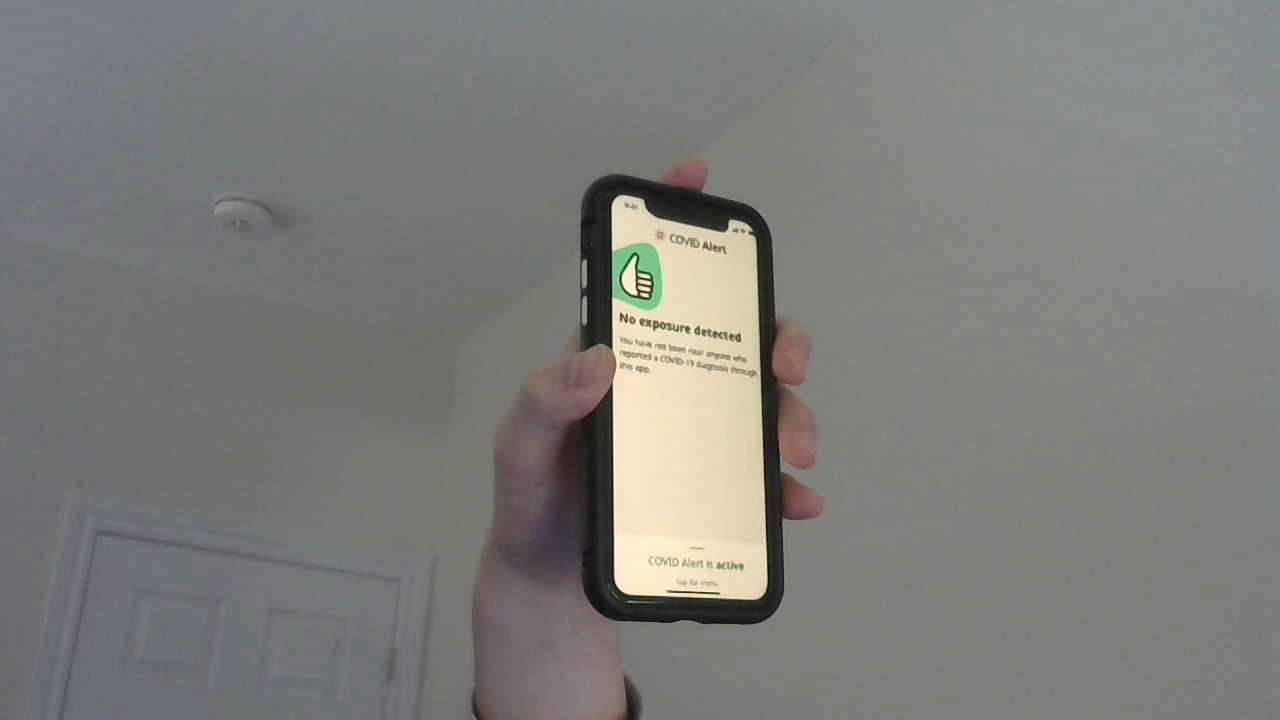Safe: (599, 233, 772, 349)
